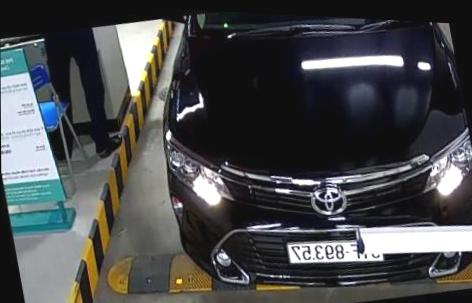License_Plate: (284, 231, 381, 273)
